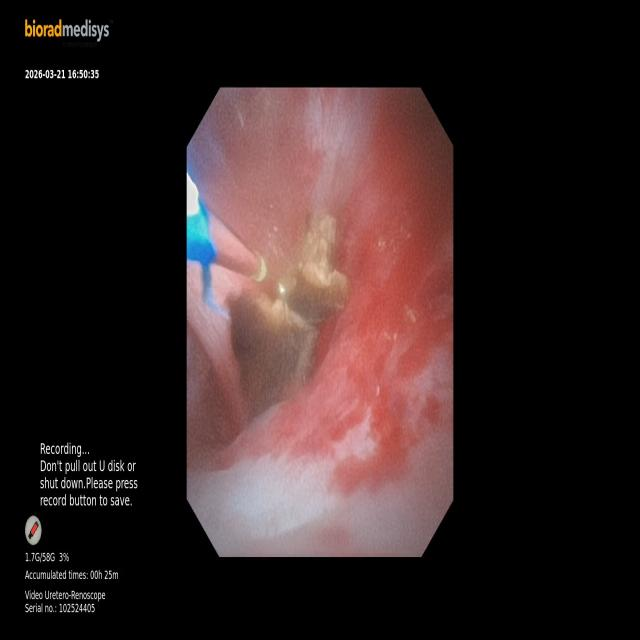laser-fibre: (209, 214, 260, 277)
stone-new: (229, 295, 318, 417), (280, 215, 348, 321)
